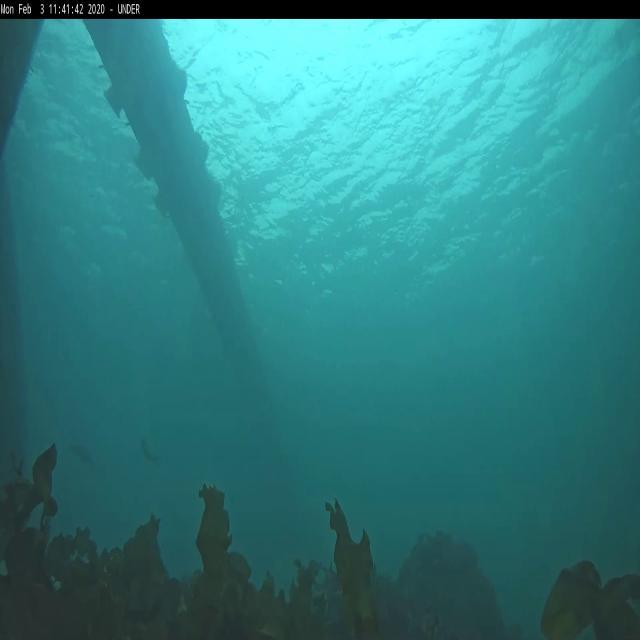fish: (142, 436, 160, 470), (71, 444, 94, 467)
